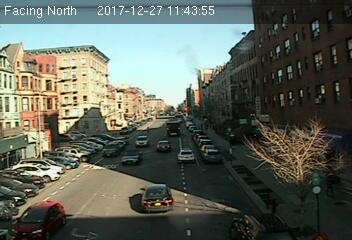car: (10, 199, 67, 240), (231, 212, 299, 240), (139, 182, 174, 213), (177, 148, 196, 163), (121, 151, 142, 164), (202, 149, 220, 162), (102, 145, 119, 157), (156, 141, 171, 152), (134, 136, 149, 147)
ups: (165, 122, 180, 137)
